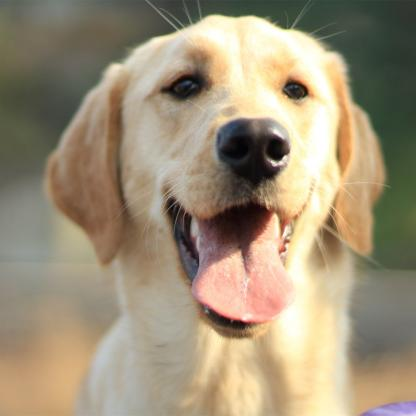dog: (44, 13, 381, 412)
